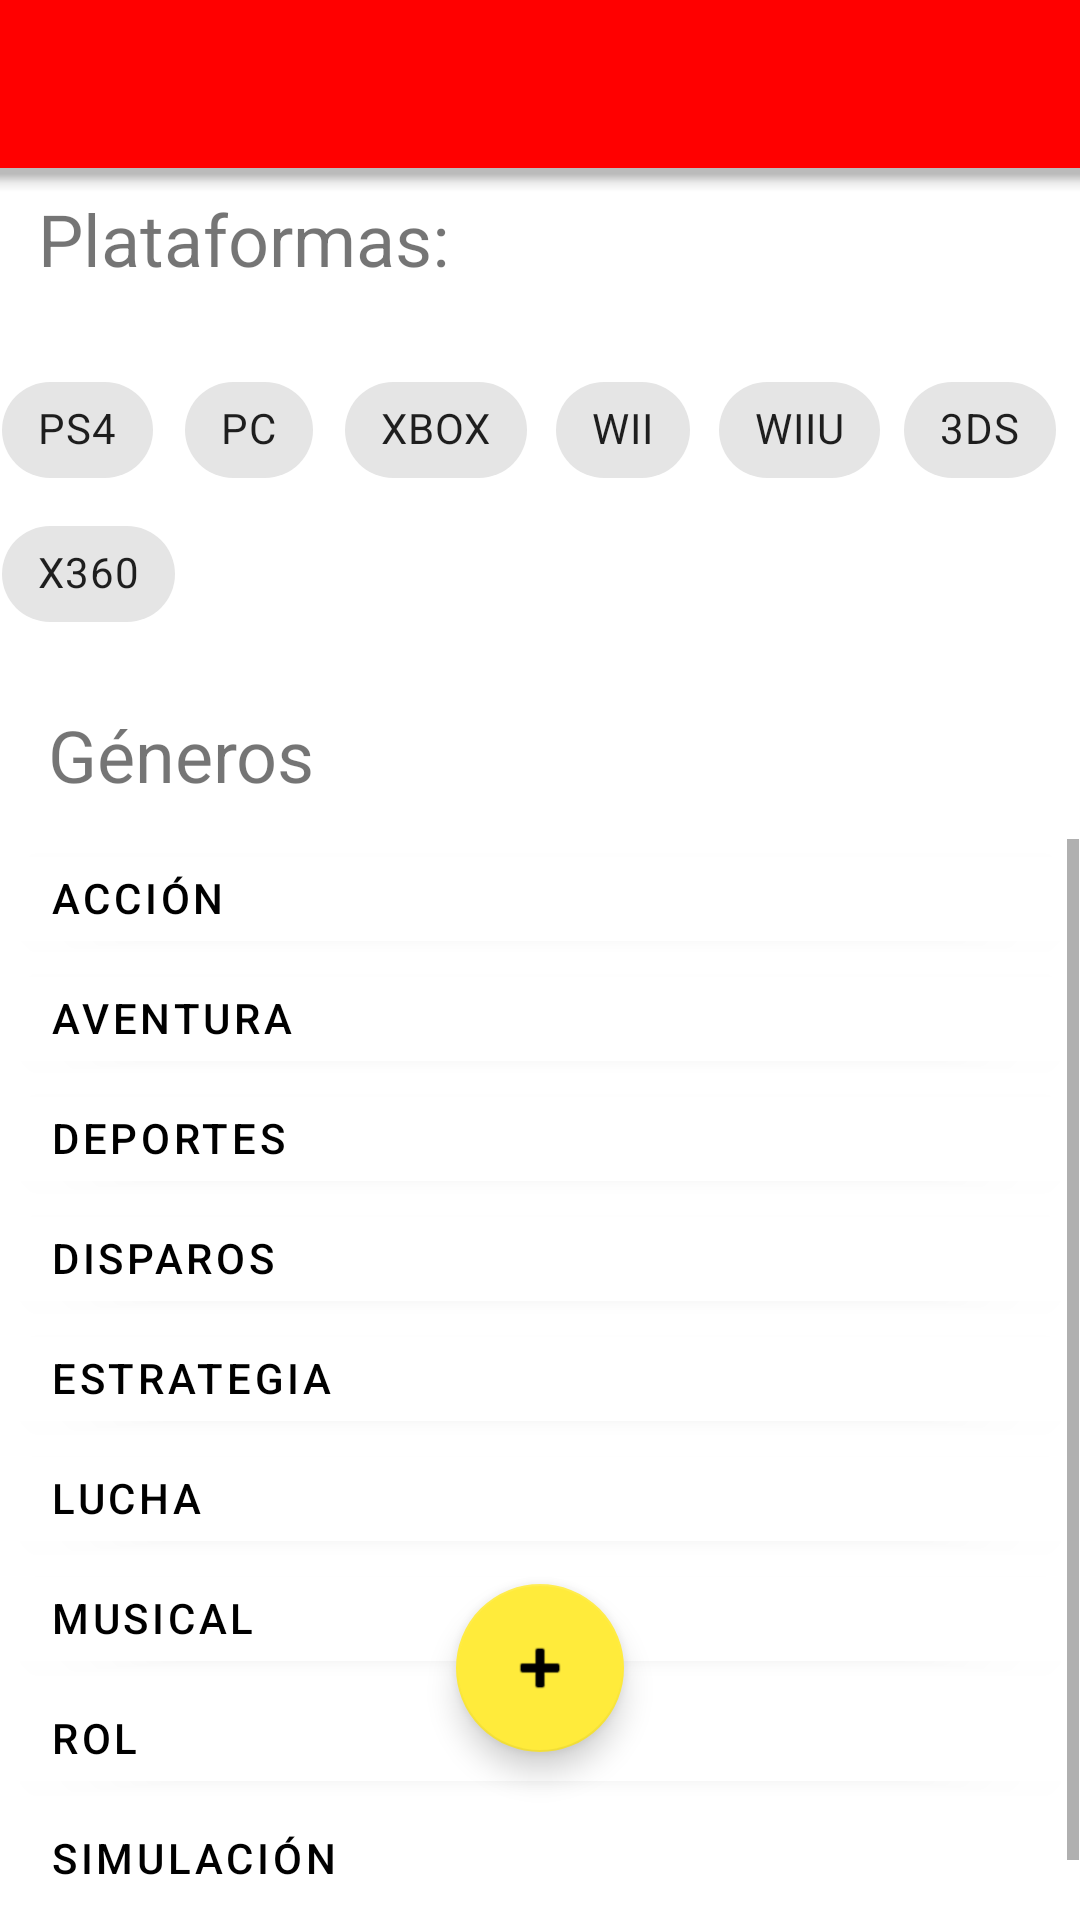

Named icons in this screenshot (1080 x 1920) and their centers, point (x, y):
add: point (540, 1668)
